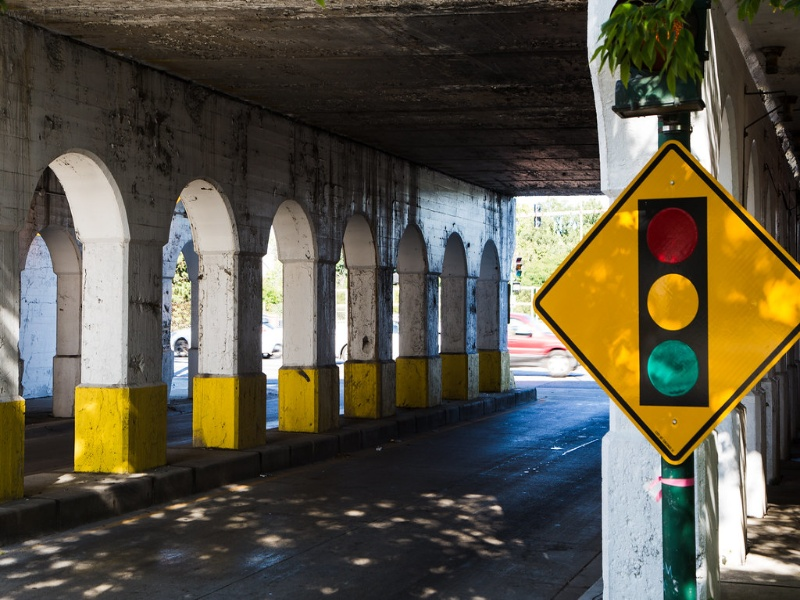traffic signal sign: (530, 137, 800, 469)
